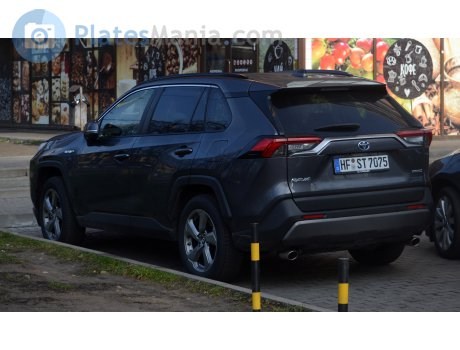License Plates: (336, 155, 390, 170)
